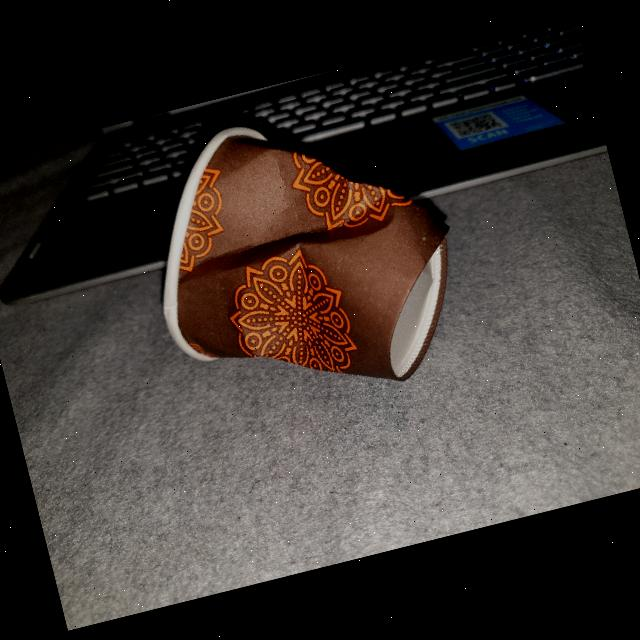trash: (114, 67, 500, 441)
